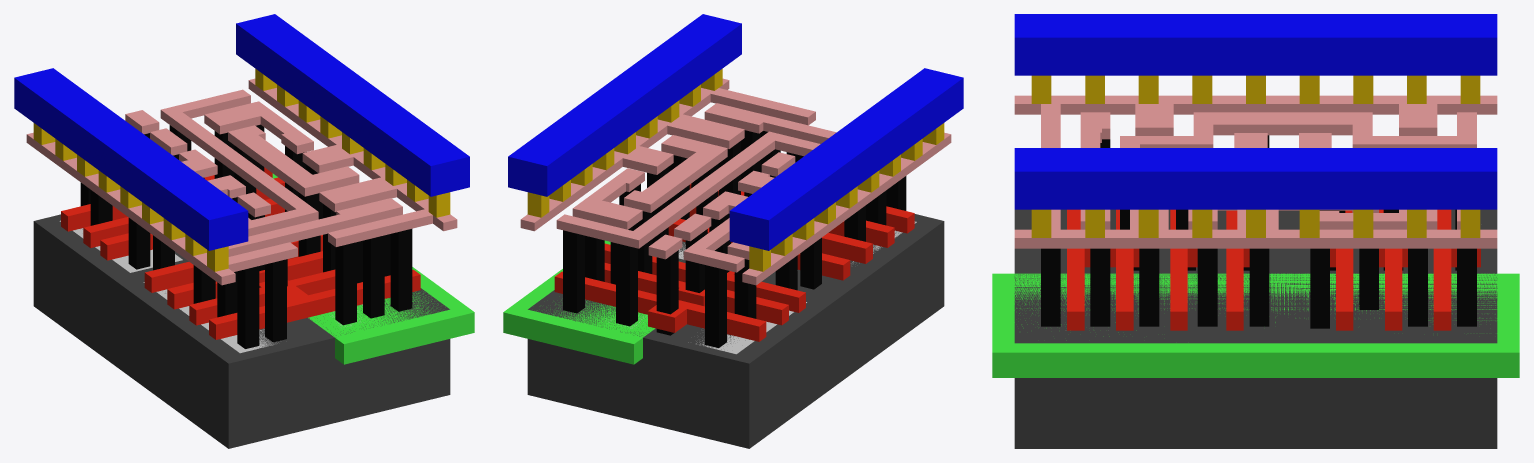
File: sky130_fd_sc_hd__a221o_2.obj
The picture shows the model from 3 angles, left to right: view 1: azimuth 30°, elevation 25°; view 2: azimuth 150°, elevation 25°; view 3: azimuth 270°, elevation 25°; orthographic projection. The views are drawn at different scales.
Parts seen in each view (by area): view 1: subs, metal1, li, licon, poly, nwell, mcon, diff; view 2: subs, metal1, li, licon, poly, nwell, mcon, diff; view 3: metal1, subs, li, nwell, licon, poly, mcon.
Part boxes in pixels (bbox=[...]): subs: bbox=[33, 214, 450, 448]; metal1: bbox=[14, 14, 469, 250]; li: bbox=[26, 78, 457, 285]; licon: bbox=[80, 124, 412, 348]; poly: bbox=[61, 167, 420, 339]; nwell: bbox=[272, 173, 474, 364]; mcon: bbox=[33, 68, 450, 271]; diff: bbox=[59, 220, 278, 353]; subs: bbox=[527, 214, 944, 448]; metal1: bbox=[508, 14, 963, 250]; li: bbox=[520, 78, 951, 285]; licon: bbox=[563, 130, 906, 347]; poly: bbox=[554, 184, 914, 341]; nwell: bbox=[503, 240, 655, 364]; mcon: bbox=[527, 68, 944, 271]; diff: bbox=[688, 221, 916, 354]; metal1: bbox=[1014, 14, 1497, 209]; subs: bbox=[1014, 209, 1497, 448]; li: bbox=[1014, 95, 1497, 248]; nwell: bbox=[992, 273, 1519, 377]; licon: bbox=[1041, 135, 1476, 328]; poly: bbox=[1067, 209, 1480, 330]; mcon: bbox=[1031, 75, 1480, 237].
Bounding box in the file's own units: 3.2 × 2.74 × 4.52.
